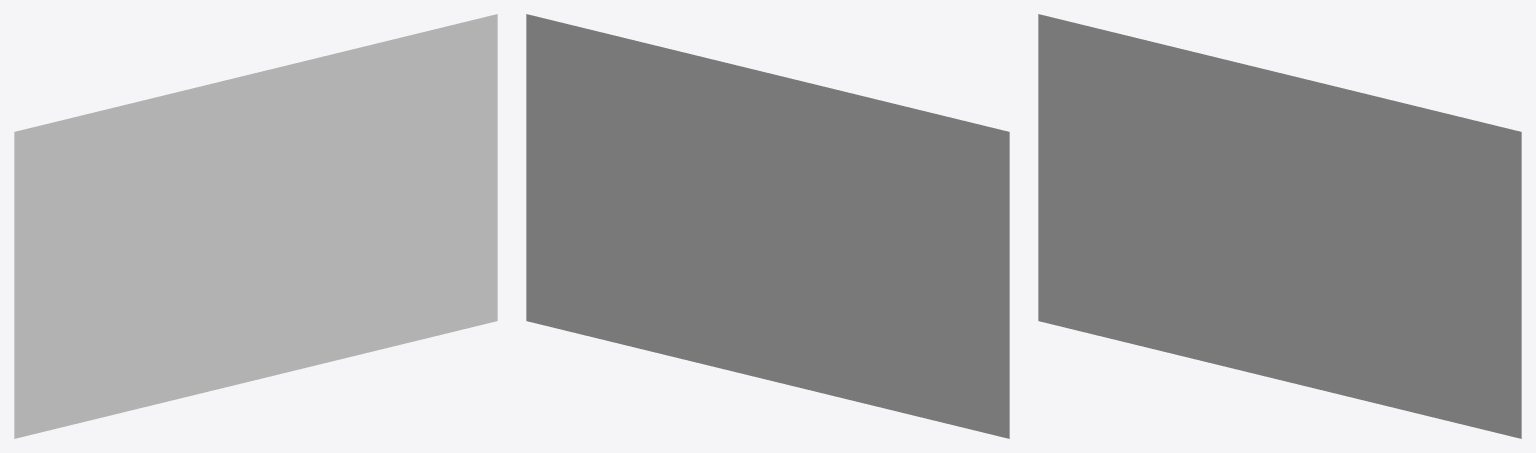
The model's file is primary_132.glb.
The picture shows the model from 3 angles, left to right: view 1: azimuth 30°, elevation 25°; view 2: azimuth 150°, elevation 25°; view 3: azimuth 330°, elevation 25°; orthographic projection.
Parts seen in each view (by area): view 1: Object; view 2: Object; view 3: Object.
Part boxes in pixels (box(x1,y1,x2,y2)): Object: box(14, 14, 497, 438); Object: box(526, 14, 1009, 438); Object: box(1038, 14, 1521, 438).
Bounding box in the file's own units: 5.8 × 3.52 × 1.27e-05.
Materials: 2 (2 with a texture image).
